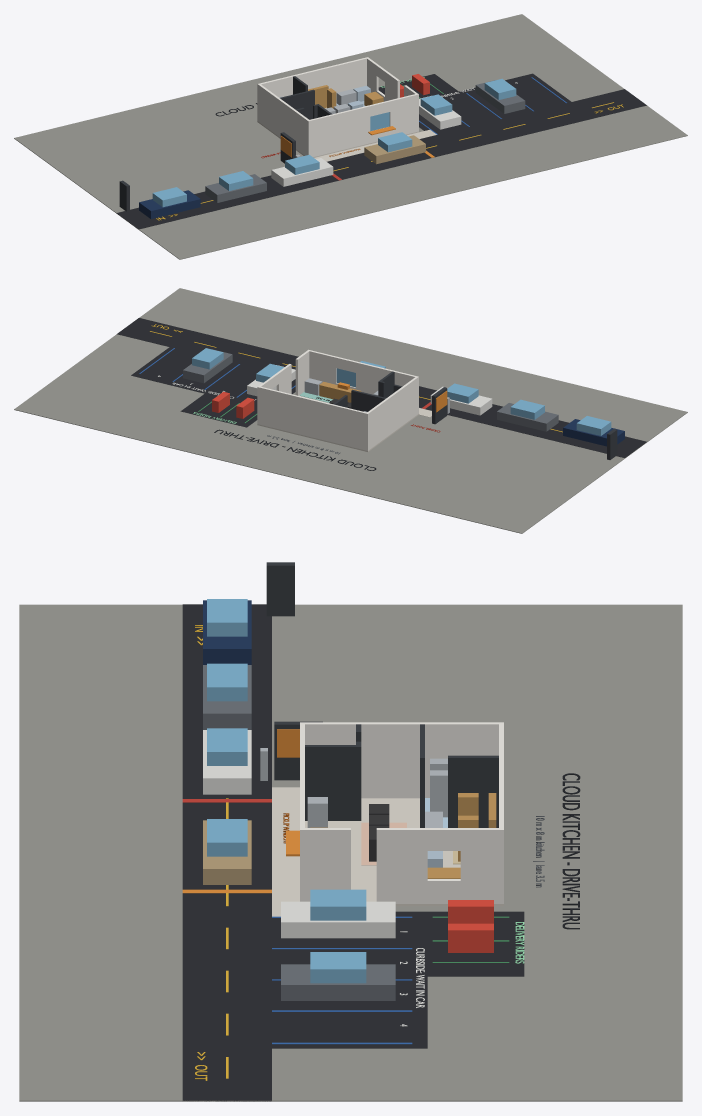
File: cloud-kitchen.glb
3 views of the same model, one above another, from view 1: azimuth 30°, elevation 25°; view 2: azimuth 150°, elevation 25°; view 3: azimuth 270°, elevation 25° (orthographic). The views are drawn at different scales.
Parts seen in each view (by area): view 1: ENV_ground, ENV_lane_asphalt, ENV_bay_asphalt, BLD_wall_S_a, BLD_wall_N, BLD_wall_W, BLD_wall_S_b, VEH_order_car_body, VEH_window_car_body, VEH_queue_car2_body, VEH_queue_car1_body, VEH_bay_car3_body (+10 smaller); view 2: ENV_ground, ENV_lane_asphalt, BLD_wall_N, ENV_bay_asphalt, BLD_wall_W, ENV_rider_asphalt, BLD_wall_S_a, VEH_queue_car1_body, BLD_wall_S_b, VEH_bay_car3_body, VEH_queue_car2_body, VEH_order_car_body (+8 smaller); view 3: ENV_ground, ENV_lane_asphalt, ENV_bay_asphalt, BLD_wall_W, ENV_rider_asphalt, BLD_wall_E_b, INT_wc_E, VEH_bay_car1_body, VEH_bay_car3_body, BLD_wall_E_a, BLD_floor, ENV_service_apron (+19 smaller).
Part boxes in pixels (x1=…): ENV_ground: x1=14, y1=14, x2=687, y2=259; ENV_lane_asphalt: x1=116, y1=89, x2=646, y2=229; ENV_bay_asphalt: x1=419, y1=73, x2=571, y2=134; BLD_wall_S_a: x1=307, y1=105, x2=370, y2=156; BLD_wall_N: x1=257, y1=57, x2=367, y2=120; BLD_wall_W: x1=257, y1=83, x2=310, y2=155; BLD_wall_S_b: x1=389, y1=94, x2=417, y2=134; VEH_order_car_body: x1=271, y1=158, x2=333, y2=186; VEH_window_car_body: x1=364, y1=135, x2=425, y2=164; VEH_queue_car2_body: x1=139, y1=190, x2=200, y2=219; VEH_queue_car1_body: x1=205, y1=174, x2=266, y2=202; VEH_bay_car3_body: x1=475, y1=80, x2=525, y2=113; ENV_ground: x1=14, y1=288, x2=687, y2=533; ENV_lane_asphalt: x1=117, y1=318, x2=646, y2=457; BLD_wall_N: x1=258, y1=386, x2=369, y2=450; ENV_bay_asphalt: x1=131, y1=347, x2=295, y2=406; BLD_wall_W: x1=367, y1=376, x2=417, y2=449; ENV_rider_asphalt: x1=180, y1=393, x2=257, y2=427; BLD_wall_S_a: x1=356, y1=361, x2=418, y2=414; VEH_queue_car1_body: x1=497, y1=403, x2=558, y2=431; BLD_wall_S_b: x1=309, y1=350, x2=336, y2=384; VEH_bay_car3_body: x1=183, y1=349, x2=232, y2=383; VEH_queue_car2_body: x1=563, y1=419, x2=624, y2=446; VEH_order_car_body: x1=430, y1=386, x2=492, y2=415; ENV_ground: x1=19, y1=604, x2=682, y2=1101; ENV_lane_asphalt: x1=182, y1=604, x2=271, y2=1101; ENV_bay_asphalt: x1=272, y1=911, x2=427, y2=1048; BLD_wall_W: x1=300, y1=722, x2=503, y2=798; ENV_rider_asphalt: x1=427, y1=911, x2=524, y2=976; BLD_wall_E_b: x1=376, y1=828, x2=427, y2=903; INT_wc_E: x1=305, y1=745, x2=358, y2=820; VEH_bay_car1_body: x1=281, y1=901, x2=395, y2=938; VEH_bay_car3_body: x1=281, y1=964, x2=395, y2=1000; BLD_wall_E_a: x1=300, y1=828, x2=350, y2=901; BLD_floor: x1=305, y1=798, x2=503, y2=906; ENV_service_apron: x1=272, y1=787, x2=299, y2=916.
Size of the model in its own units: 46 by 3.35 by 26.
